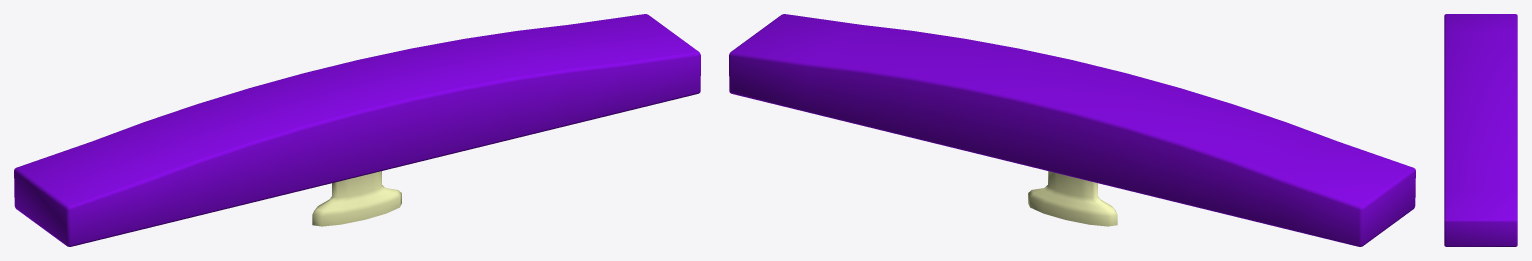
Rendered from PaddlePurple.fbx.
3 views of the same model, side by side, from view 1: azimuth 30°, elevation 25°; view 2: azimuth 150°, elevation 25°; view 3: azimuth 270°, elevation 25° (orthographic). The views are drawn at different scales.
Parts seen in each view (by area): view 1: paddle.005, paddleholder.005; view 2: paddle.005, paddleholder.005; view 3: paddle.005.
Part boxes in pixels (box(x1,y1,x2,y2)): paddle.005: box(14, 14, 700, 246); paddleholder.005: box(312, 171, 401, 226); paddle.005: box(729, 14, 1415, 246); paddleholder.005: box(1028, 171, 1117, 226); paddle.005: box(1444, 14, 1517, 246).
Bounding box in the file's own units: 42.8 × 8.29 × 6.43.
